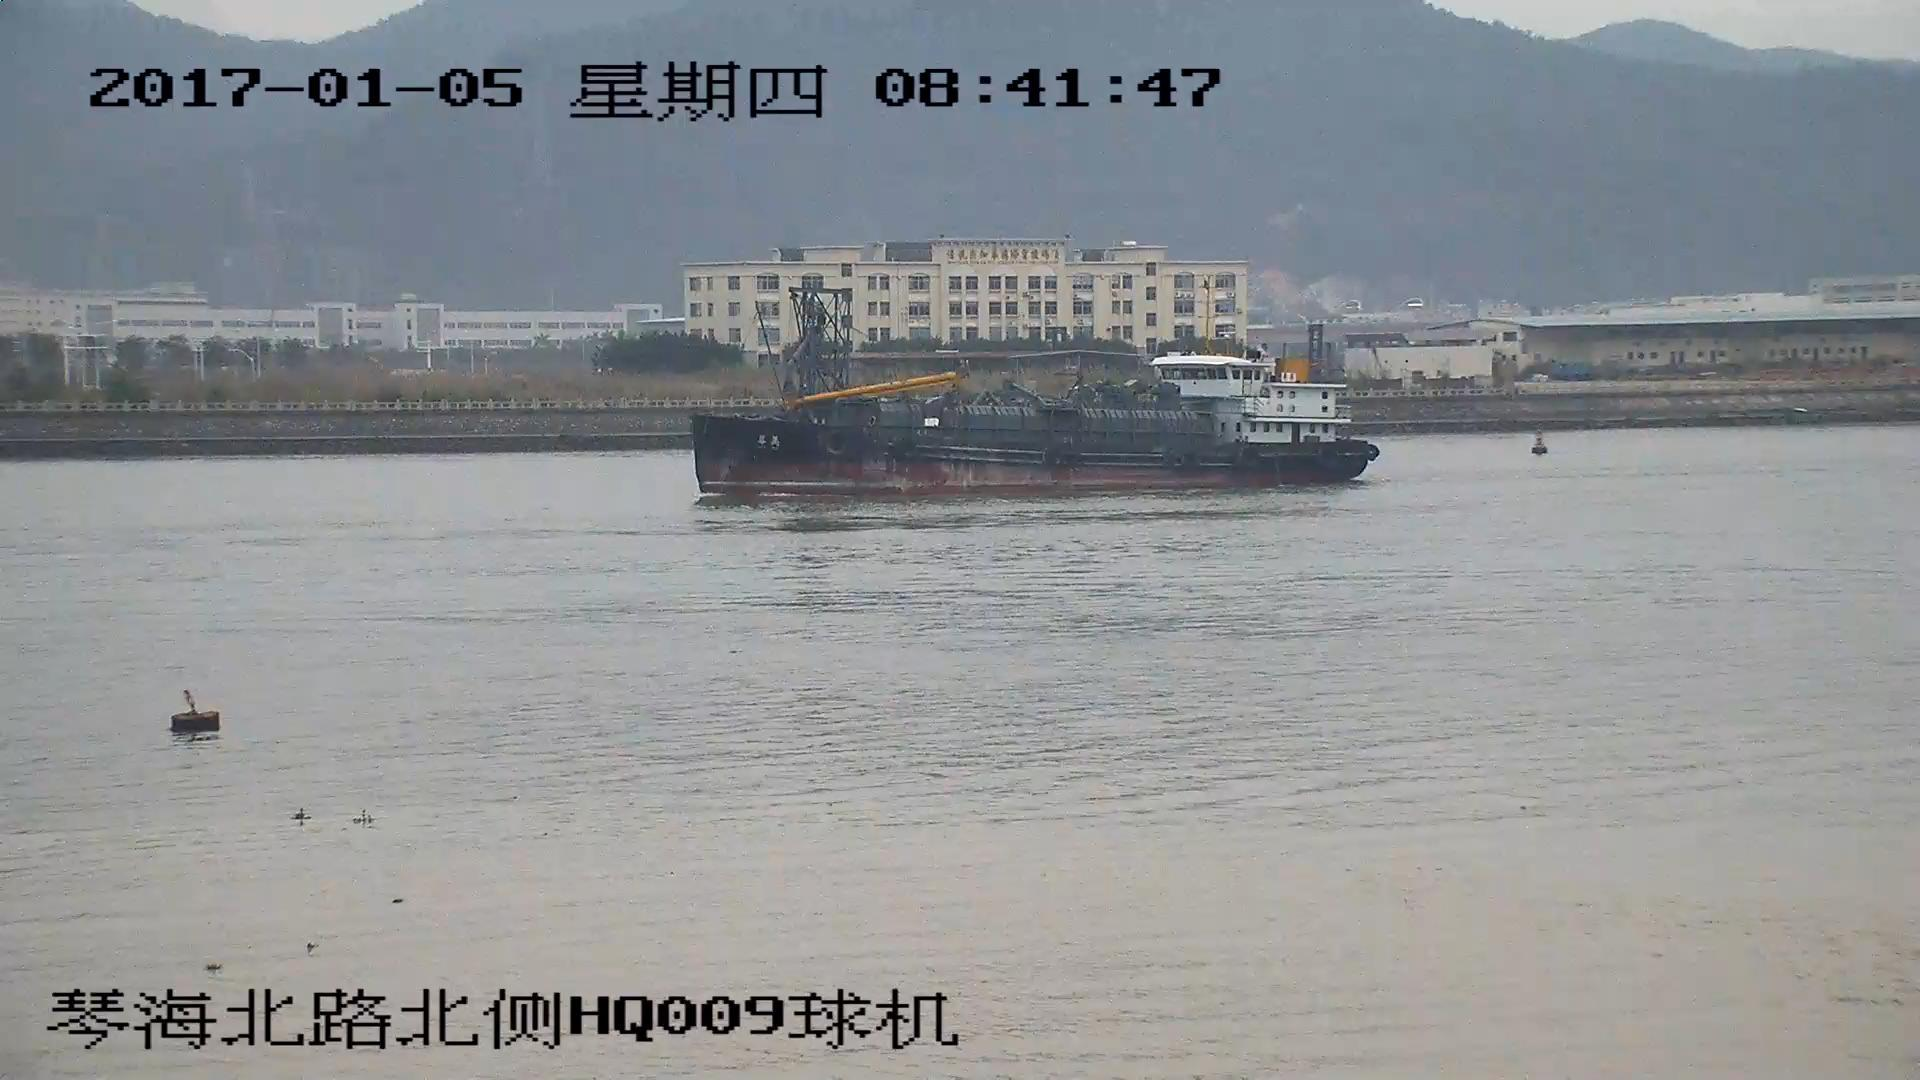Ship: (683, 295, 1375, 493)
